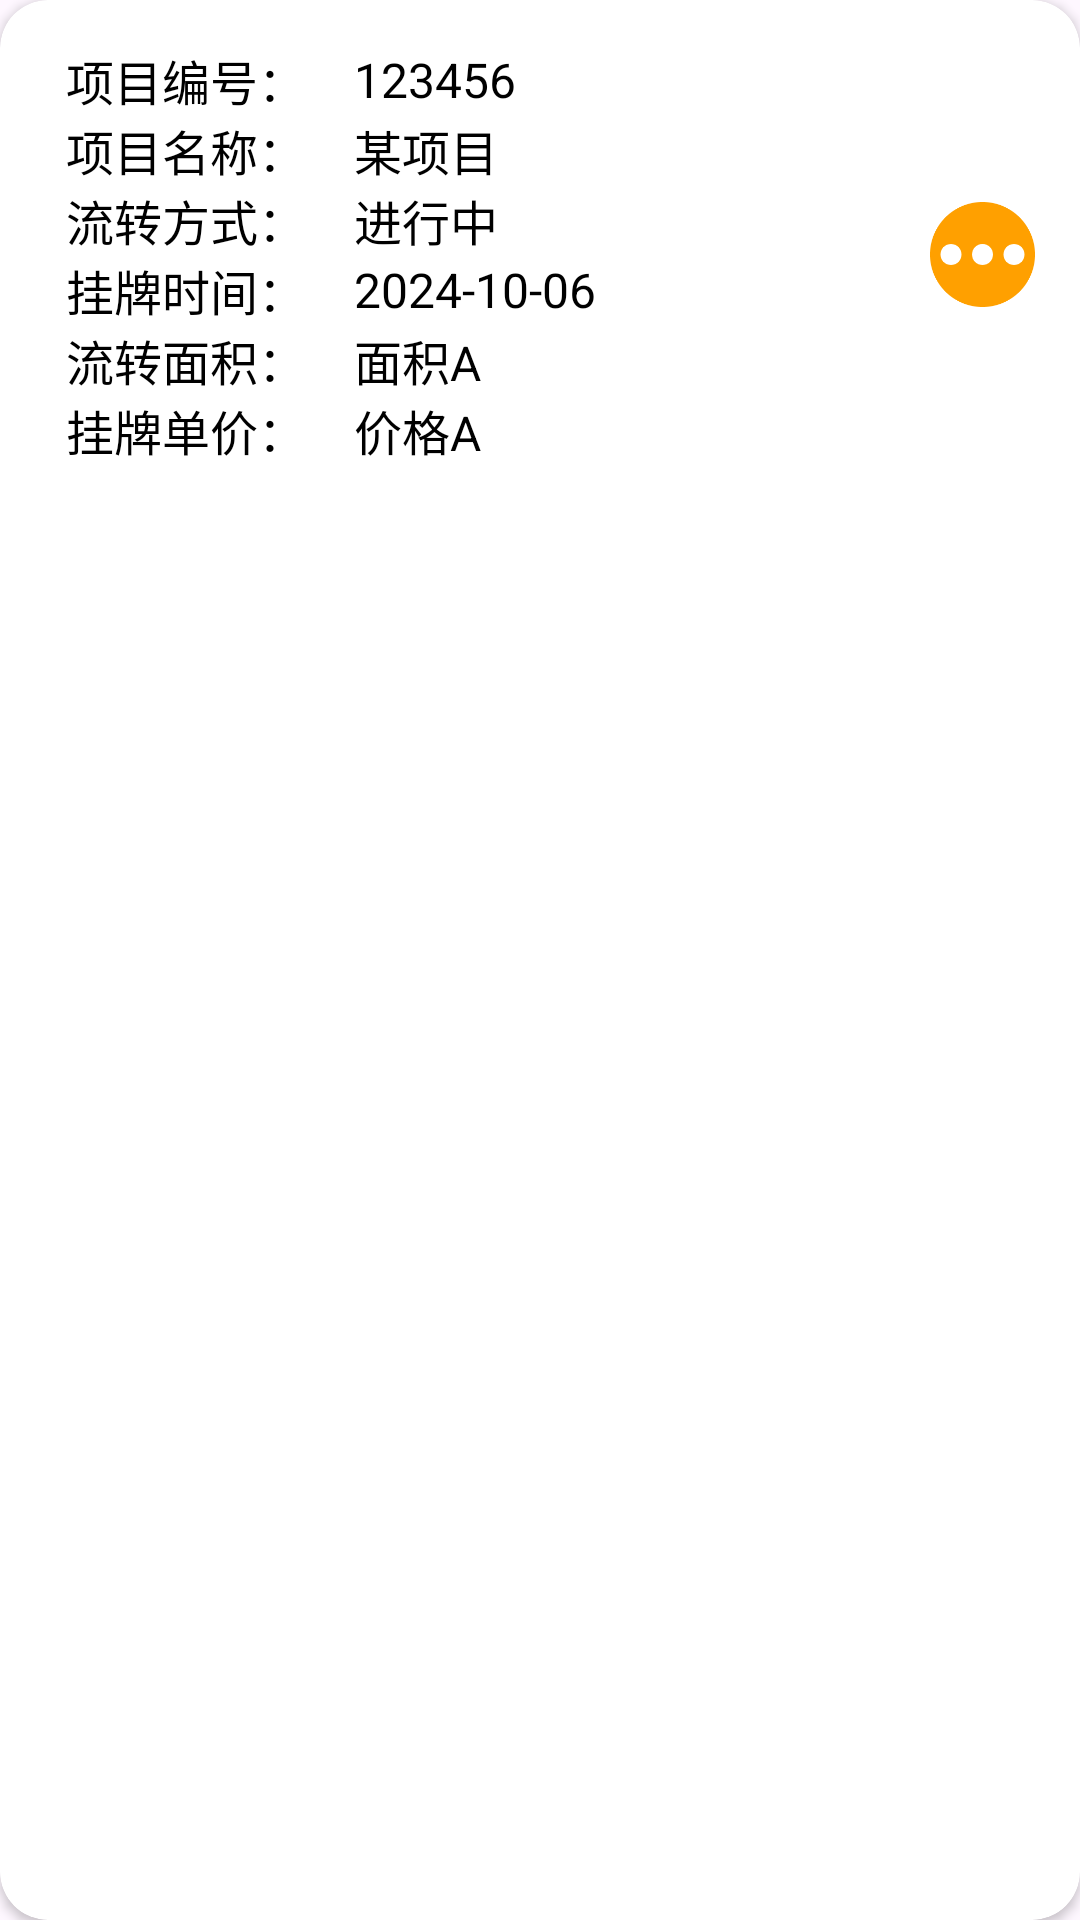

Where to tap for icons on this 1080*1920 app screen, as [x,y]:
详情: [982,254]
